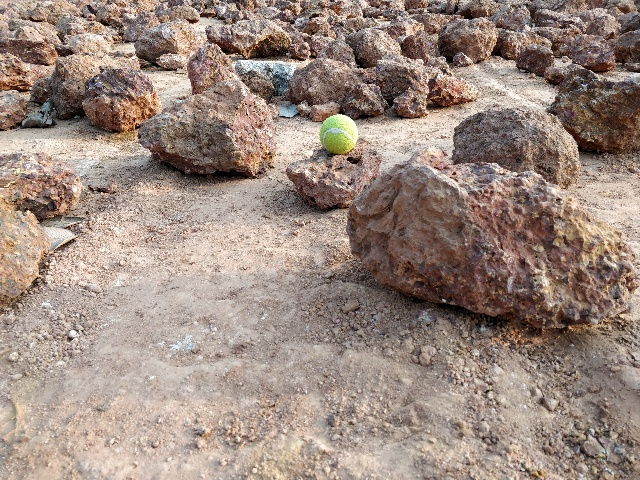ball: (317, 110, 361, 158)
